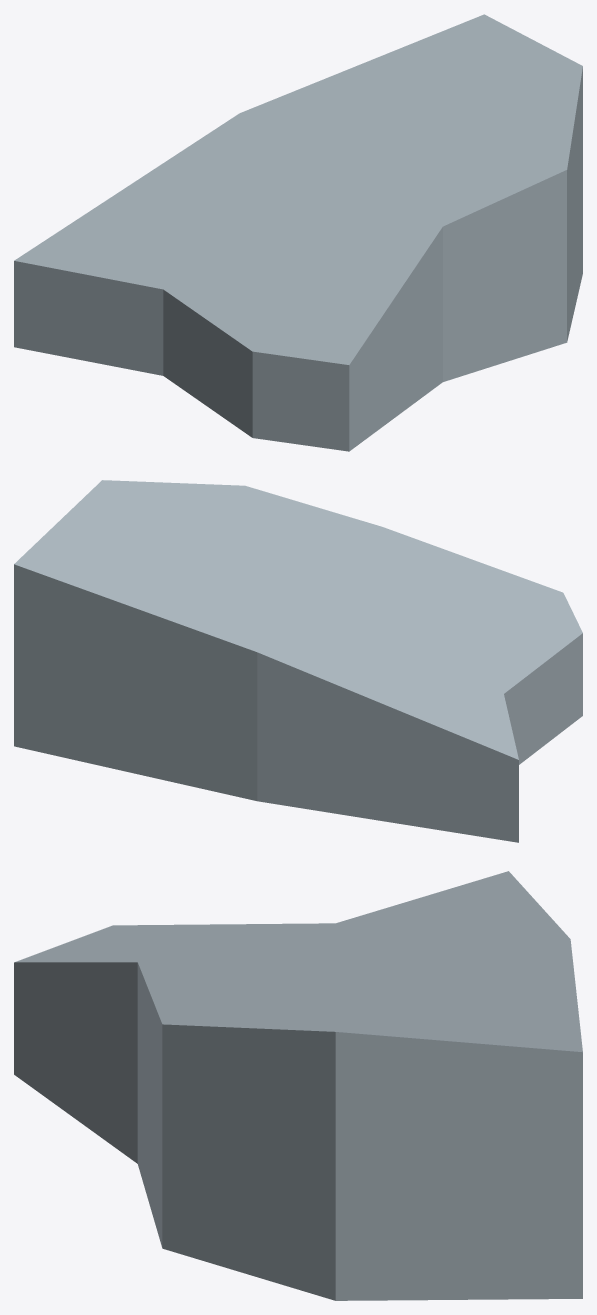
The model's file is Rock_07.fbx.
The picture shows the model from 3 angles, top to bottom: view 1: azimuth 30°, elevation 25°; view 2: azimuth 150°, elevation 25°; view 3: azimuth 270°, elevation 25°; orthographic projection. The views are drawn at different scales.
Parts seen in each view (by area): view 1: Cylinder.007; view 2: Cylinder.007; view 3: Cylinder.007.
Boxes of the visible parts, x1,y1,x2,y2 form: Cylinder.007: [14, 14, 582, 451]; Cylinder.007: [14, 480, 582, 842]; Cylinder.007: [14, 871, 582, 1300].
Bounding box in the file's own units: 3.04 × 1.2 × 2.3.
